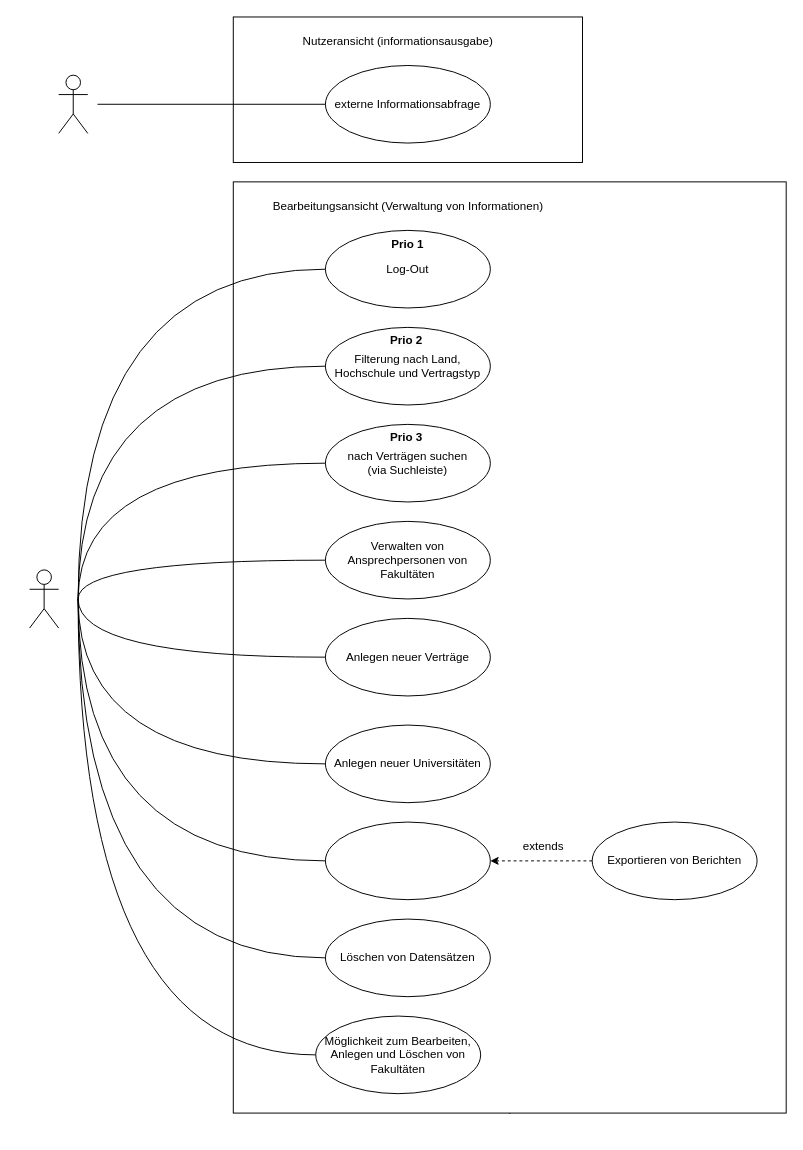
Some shapes in this 803 by 1150 pixel diagram are drawn without their labels. Here are the shapes that lost their labels. From the top down, the centre of each, then its label:
At point 73,103: "externer Nutzer".
At point 44,598: "Mitarbeiter der SI".
At point 407,860: "Erzeugen von Berichten".
